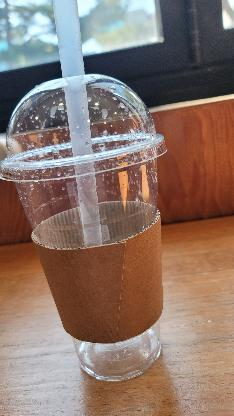Plastic Cup: (7, 82, 168, 380)
